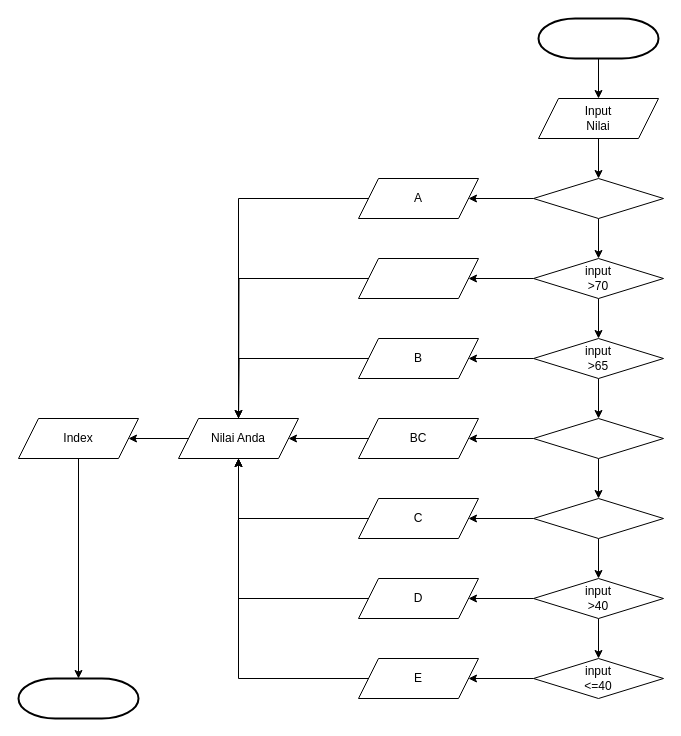
Some shapes in this 681 by 736 pixel diagram are drawn without their labels. The shapes that lost their labels are listed below. From the top down, each one's centre as x and y in pixels, then its label:
pixel 598 38: Mulai
pixel 598 198: input >80
pixel 418 278: AB
pixel 598 438: input >60
pixel 598 518: input >50
pixel 78 698: Selesai
